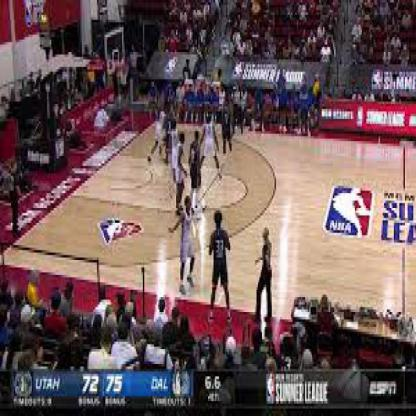rim: (118, 62, 129, 76)
